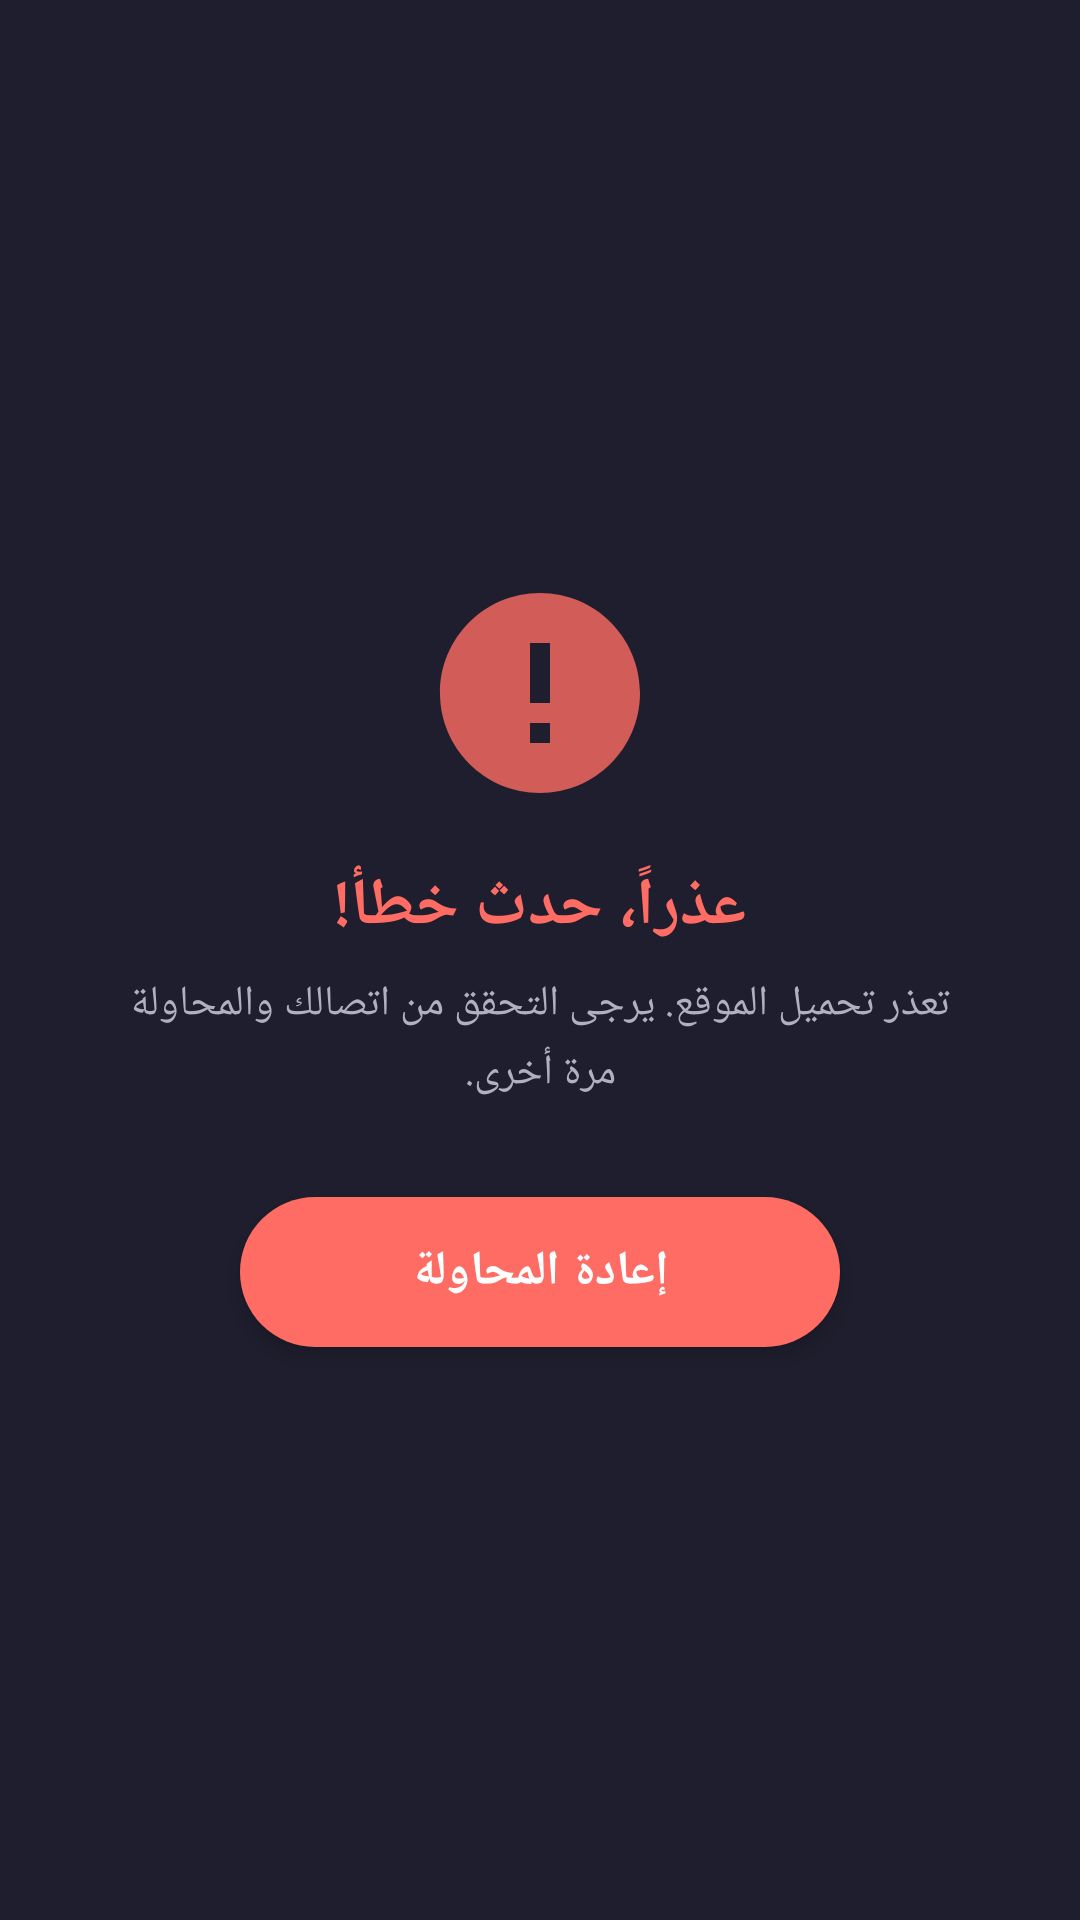

Named icons in this screenshot (1080x1920) and their bounding boxes, (x1, y1, x2, y2):
error: (440, 593, 640, 793)
